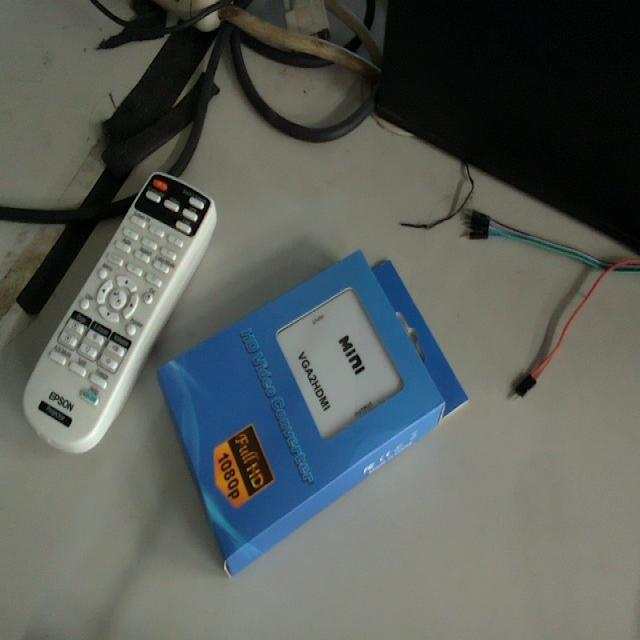remote: (158, 252, 468, 580), (29, 173, 223, 457)
